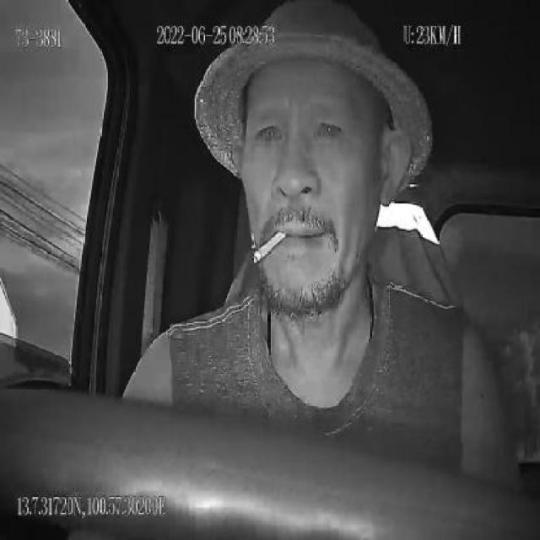smoking: (252, 230, 288, 264)
